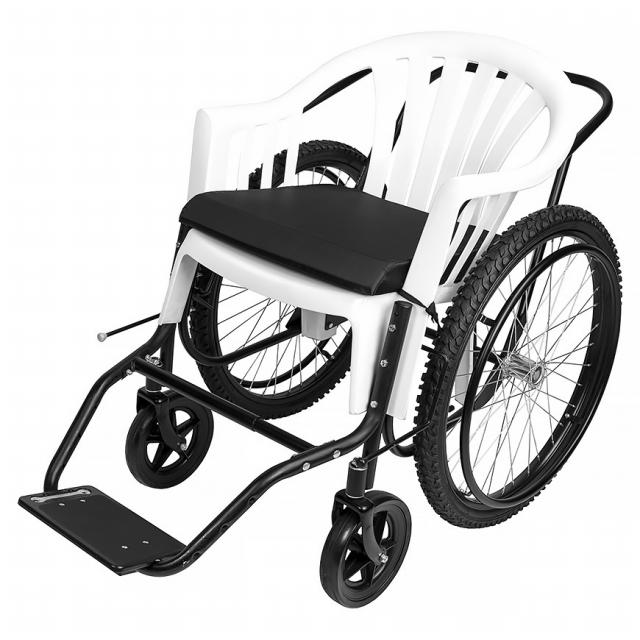wheelchair: (10, 28, 640, 610)
